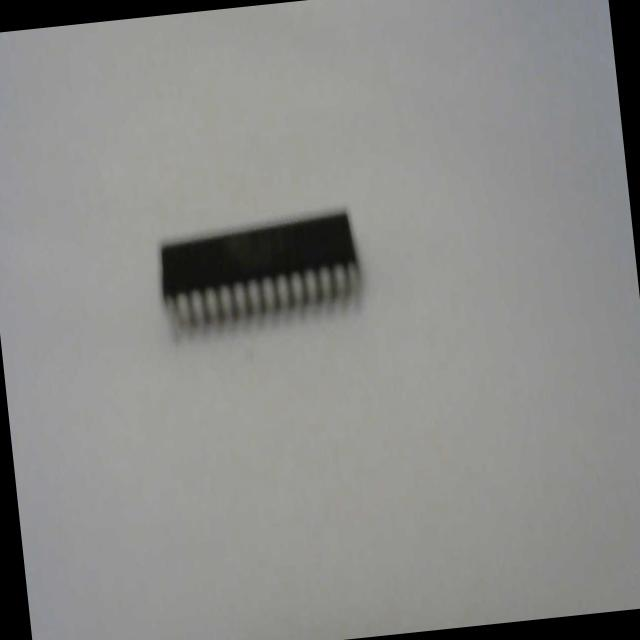atmega: (152, 202, 368, 348)
